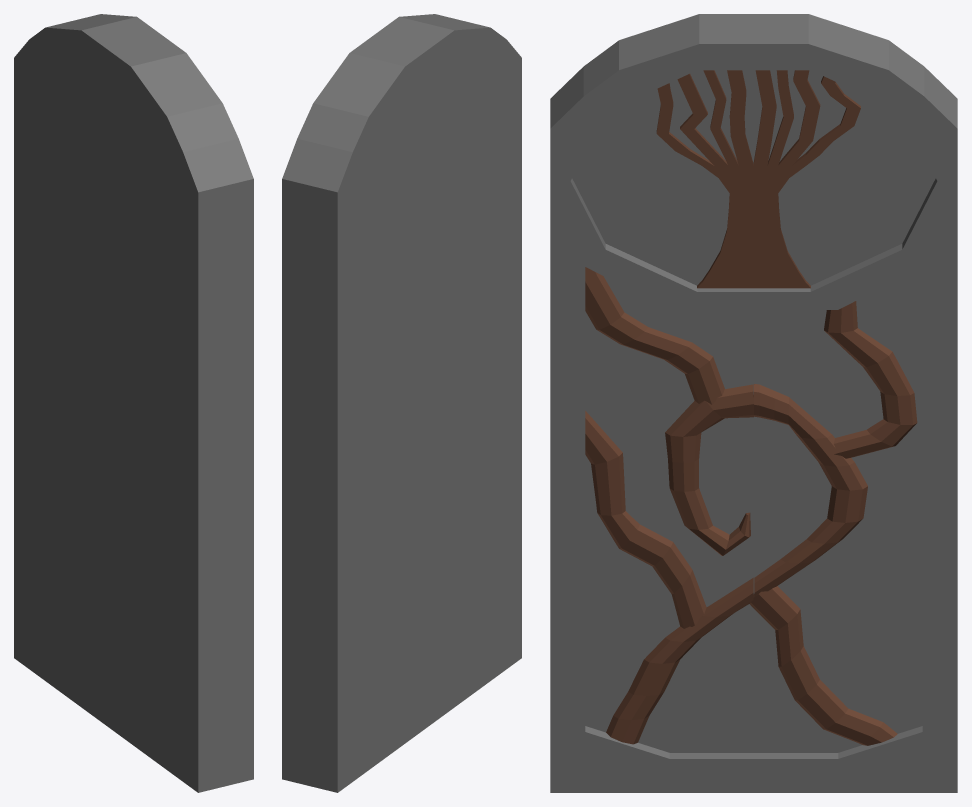
The model's file is porte sortie mine  (1).fbx.
3 renders of one model, left to right at view 1: azimuth 30°, elevation 25°; view 2: azimuth 150°, elevation 25°; view 3: azimuth 270°, elevation 25°, orthographic. The views are drawn at different scales.
Visible parts, largest first — view 1: porte coter gauche, porte coter droit; view 2: porte coter droit, porte coter gauche; view 3: porte coter droit, porte coter gauche, moitier arbre 2, moitier arbre 1, grosse racine 2, petite racine 2, petite racine 1, grosse racine 3, petite racine 3, petite racine 4, grosse racine 1.
Part boxes in pixels (<box>): porte coter gauche: <box>106,35,253,792</box>; porte coter droit: <box>14,14,161,725</box>; porte coter droit: <box>282,35,429,792</box>; porte coter gauche: <box>374,14,521,725</box>; porte coter droit: <box>754,14,957,792</box>; porte coter gauche: <box>550,14,753,792</box>; moitier arbre 2: <box>753,70,860,288</box>; moitier arbre 1: <box>656,70,753,288</box>; grosse racine 2: <box>754,384,867,598</box>; petite racine 2: <box>585,411,706,628</box>; petite racine 1: <box>749,586,897,745</box>; grosse racine 3: <box>665,384,753,555</box>; petite racine 3: <box>824,301,917,458</box>; petite racine 4: <box>585,267,724,404</box>; grosse racine 1: <box>606,577,753,744</box>.
Size of the model in its own units: 20.52 by 239 by 118.
